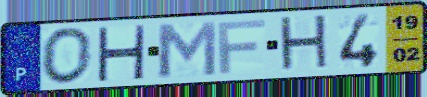4: (336, 11, 381, 70)
F: (215, 18, 268, 75)
H: (277, 12, 332, 75), (94, 25, 148, 82)
M: (154, 20, 219, 80)
O: (39, 26, 95, 86)
